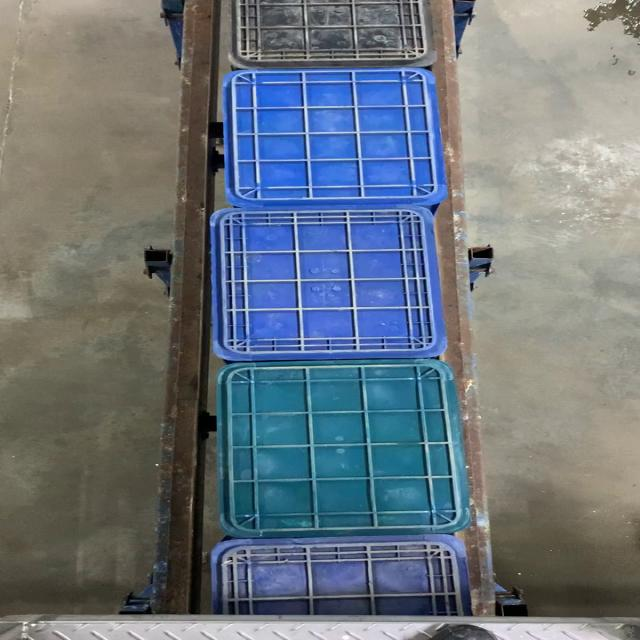Box: (211, 361, 477, 539), (202, 208, 455, 362), (218, 68, 447, 208)
